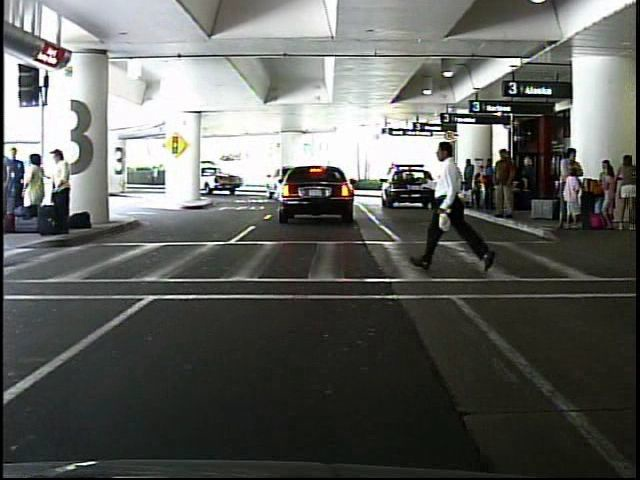person: (425, 135, 489, 281), (52, 146, 78, 238), (23, 151, 52, 231), (149, 162, 161, 188), (452, 161, 454, 205)
